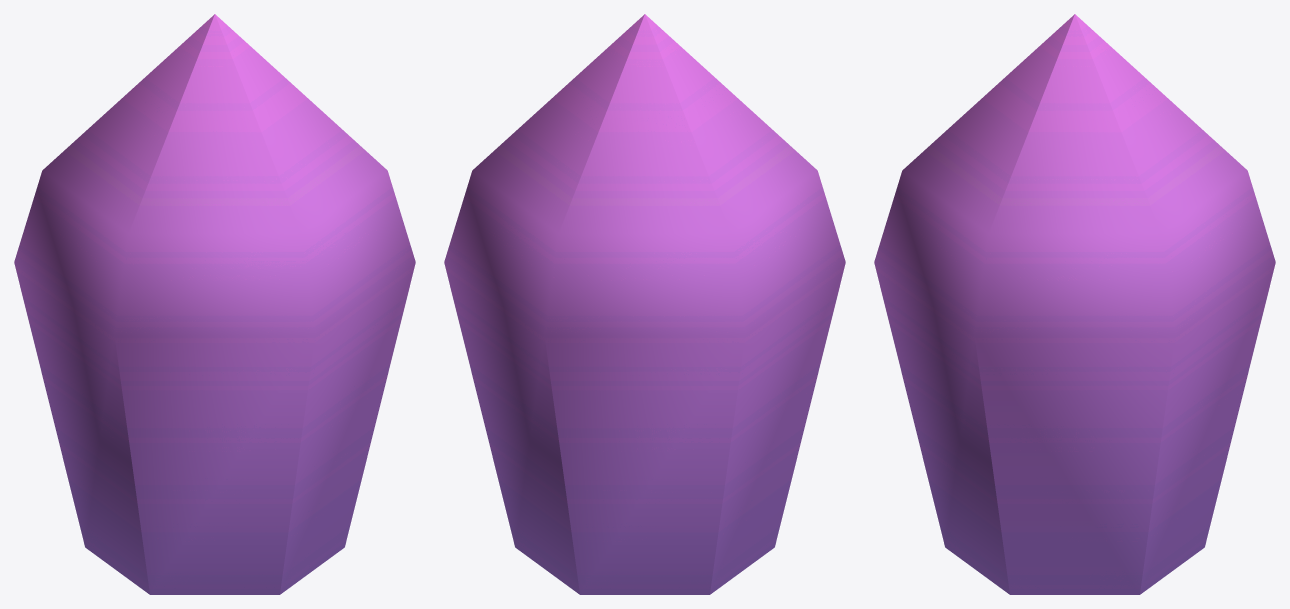
File: detail-crystal.glb
3 renders of one model, left to right at view 1: azimuth 30°, elevation 25°; view 2: azimuth 150°, elevation 25°; view 3: azimuth 270°, elevation 25°, orthographic.
Visible parts, largest first — view 1: detail-crystal; view 2: detail-crystal; view 3: detail-crystal.
Boxes of the visible parts, <box> form: detail-crystal: <box>14,14,415,594</box>; detail-crystal: <box>444,14,845,594</box>; detail-crystal: <box>874,14,1275,594</box>.
Size of the model in its own units: 0.2512 by 0.425 by 0.29.
1 material, 1 textured.
